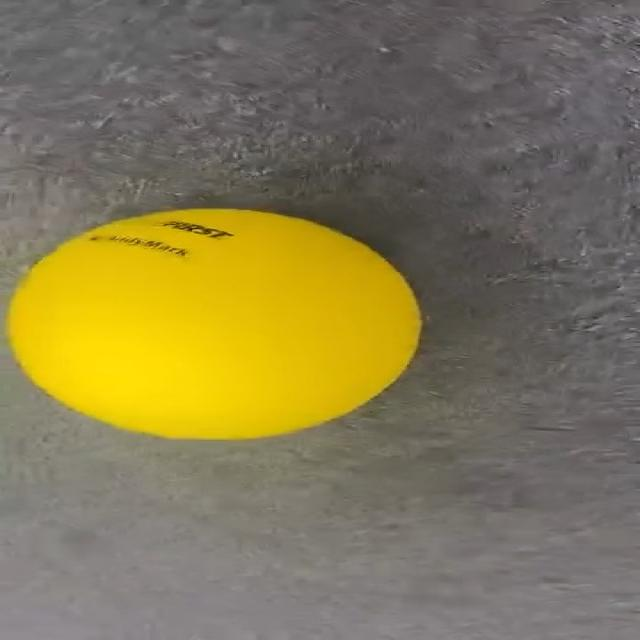Fuels: (9, 210, 420, 438)
